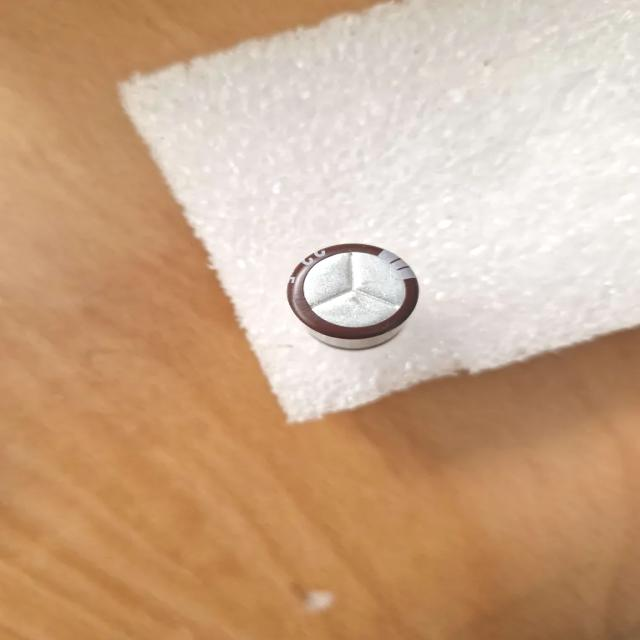C: (286, 244, 416, 352)
